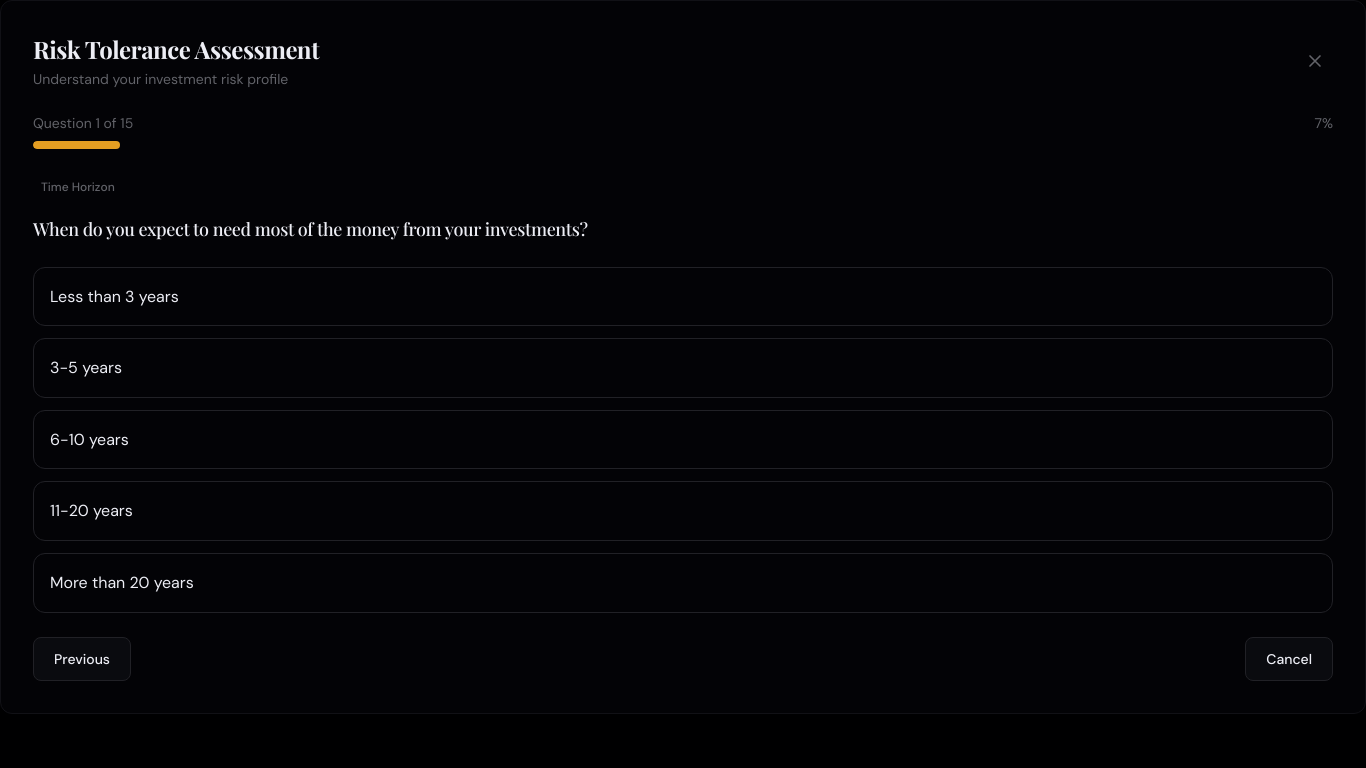
it: RiskToleranceAssessment › Navigation › allows going back to previous question
Answer first question
What coordinates should you click on to do the following:
click the button "3-5 years"
I would click on:
 (86, 368)
Its box is [33, 338, 1333, 398].
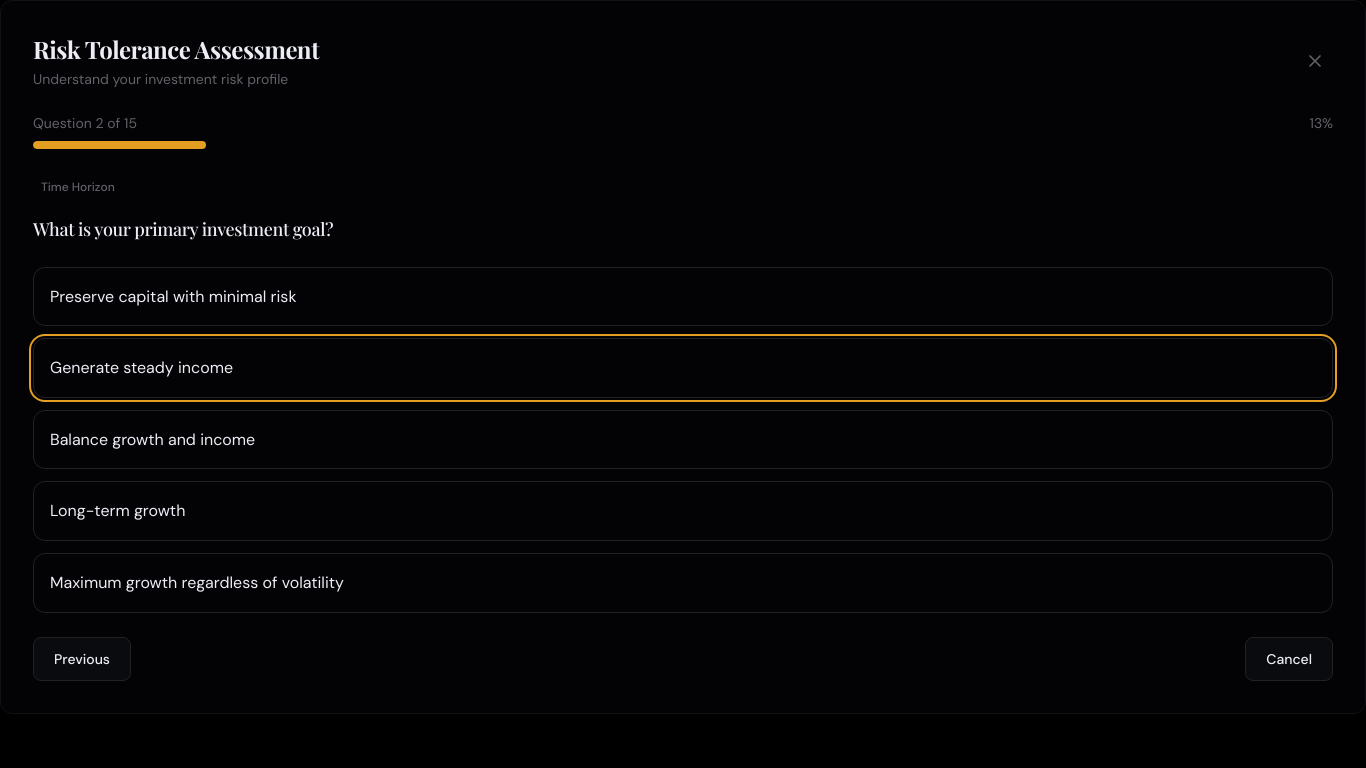
Check: the text "Question 2 of 15" is shown, box [33, 113, 137, 133]
 Go back
What coordinates should you click on to do the following:
click the button "Previous"
I would click on:
 (82, 659)
Its box is [33, 637, 131, 681].
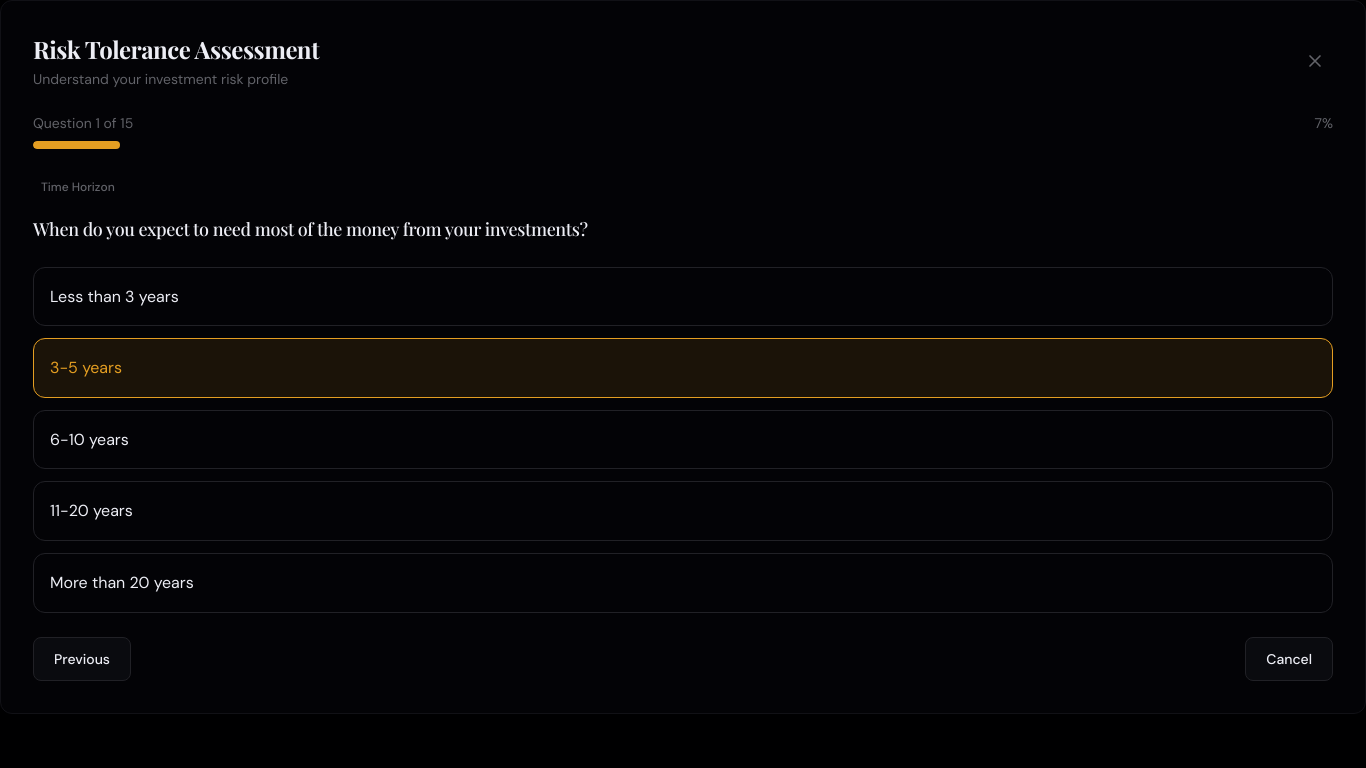
Check: the text "Question 1 of 15" is shown, box [33, 113, 133, 133]
